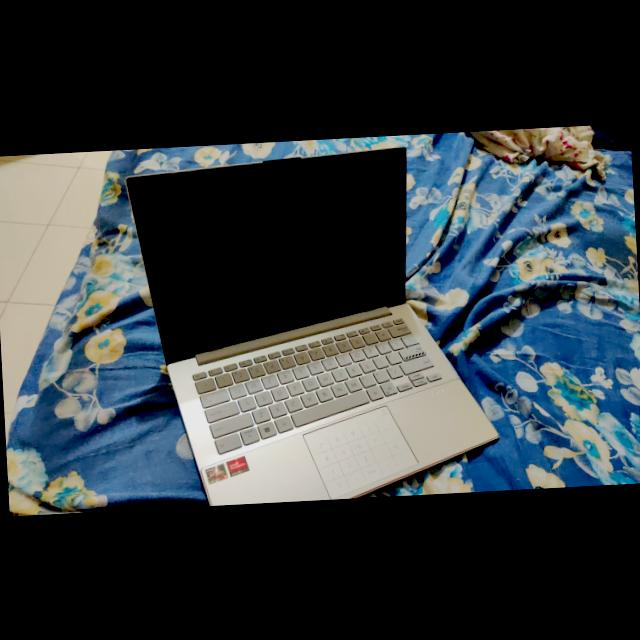laptop: (103, 134, 485, 509)
